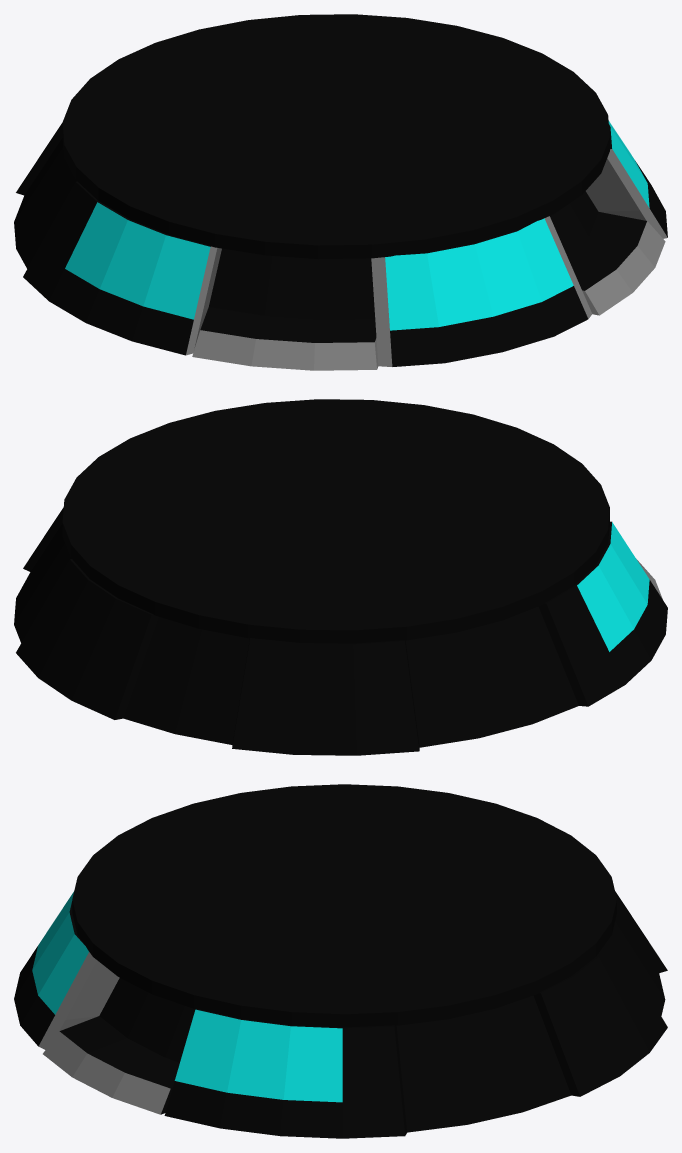
Rendered from big_stand.fbx.
3 views of the same model, one above another, from view 1: azimuth 30°, elevation 25°; view 2: azimuth 150°, elevation 25°; view 3: azimuth 270°, elevation 25° (orthographic).
Visible parts, largest first — view 1: big_stand; view 2: big_stand; view 3: big_stand.
Part boxes in pixels (<box>): big_stand: <box>14,14,667,370</box>; big_stand: <box>14,399,667,755</box>; big_stand: <box>14,784,667,1138</box>.
Size of the model in its own units: 544 by 91.56 by 538.
